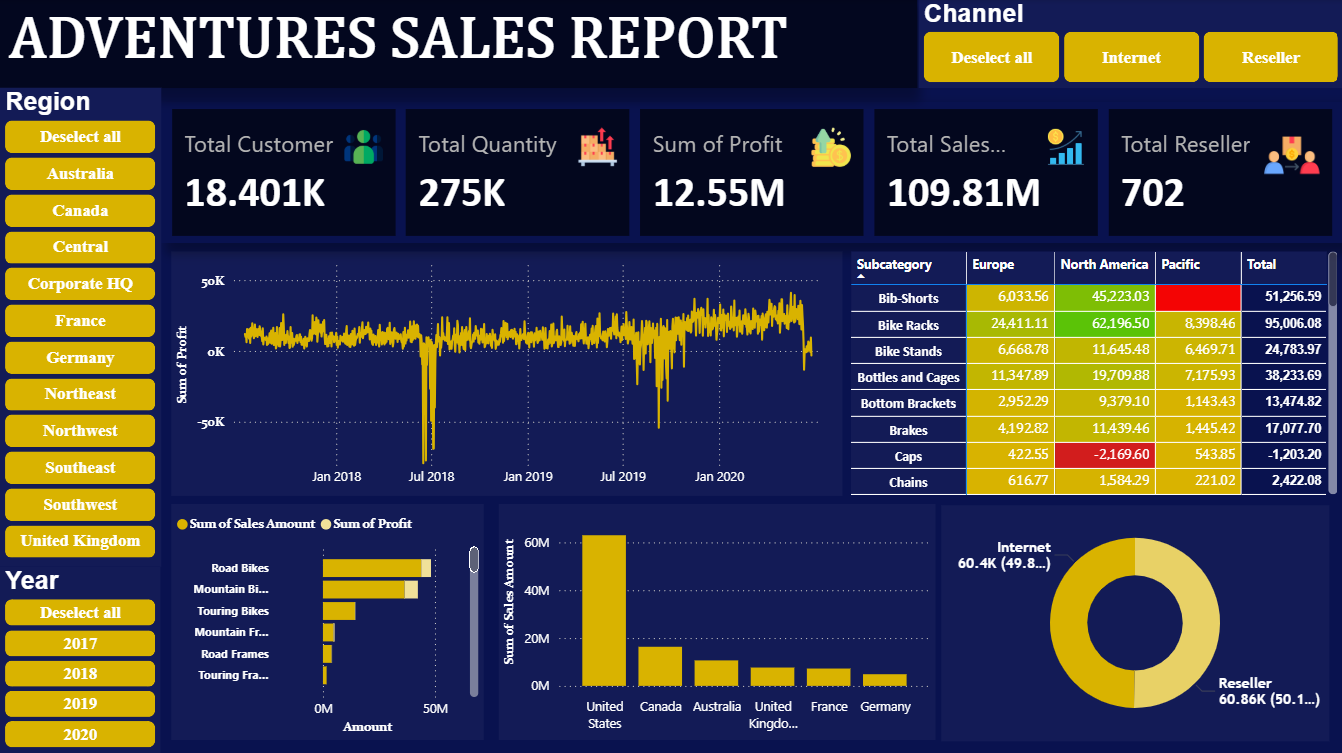

The dashboard page shown, as its layout file describes it:
{"tool":"powerbi","page":{"name":"Page 1","canvas":[1280,720],"ordinal":0},"visuals":[{"type":"textbox","box":[0,0,874,84.7],"z":1000},{"type":"cardVisual","title":"Total Customer","fields":{"Data":["Count(CustomerData.Customer)","Sum(SalesData.Order Quantity)","Sum(SalesData.Profit)","Sum(SalesData.Sales Amount)","CountNonNull(ResellerData.ResellerKey)"]},"box":[153,98,1127,135],"z":2000},{"type":"lineChart","fields":{"Category":["DueDate.Full Date.Variation.Date Hierarchy.Year","DueDate.Full Date.Variation.Date Hierarchy.Quarter","DueDate.Full Date.Variation.Date Hierarchy.Month","DueDate.Full Date.Variation.Date Hierarchy.Day"],"Y":["Sum(SalesData.Profit)"]},"box":[162.8,240.6,638.9,232.8],"z":3000},{"type":"barChart","title":"Sum of Sales Profit by Subcategory","fields":{"Category":["ProductData.Subcategory"],"Y":["Sum(SalesData.Sales Amount)","Sum(SalesData.Profit)"]},"box":[162.8,481.4,297.7,224.4],"z":4000},{"type":"columnChart","title":"Sum of Sales by Country","fields":{"Category":["SalesTerritoryData.Country"],"Y":["Sum(SalesData.Sales Amount)"]},"box":[474.4,481.4,416.3,224.4],"z":5000},{"type":"advancedSlicerVisual","fields":{"Values":["SalesTerritoryData.Region"]},"box":[0,84.9,153.5,455.8],"z":6000},{"type":"advancedSlicerVisual","fields":{"Values":["SalesOrderData.Channel"]},"box":[874.4,0,405.8,84.9],"z":7000},{"type":"advancedSlicerVisual","fields":{"Values":["DueDate.Full Date.Variation.Date Hierarchy.Year"]},"box":[0,541,153,179],"z":8000},{"type":"donutChart","title":"Product by Channel","fields":{"Category":["SalesOrderData.Channel"],"Y":["CountNonNull(SalesData.ProductKey)"]},"box":[896.7,481.7,369.4,224.4],"z":9000},{"type":"pivotTable","fields":{"Values":["Sum(SalesData.Profit)"],"Columns":["SalesTerritoryData.Group"],"Rows":["ProductData.Subcategory"]},"box":[806.1,236.1,473.3,241.1],"z":10000}]}

Visuals, with their boxes in screenshot pixels (x1, y1, x2, y2), scaled from the page's 1280x720 canvas onto the 1342x753 screenshot:
textbox: 0,0,916,89
"Total Customer" cardVisual: 160,102,1341,244
lineChart - DueDate.Full Date.Variation.Date Hierarchy.Year x DueDate.Full Date.Variation.Date Hierarchy.Quarter: 171,252,841,495
"Sum of Sales Profit by Subcategory" barChart: 171,503,483,738
"Sum of Sales by Country" columnChart: 497,503,934,738
advancedSlicerVisual - SalesTerritoryData.Region: 0,89,161,565
advancedSlicerVisual - SalesOrderData.Channel: 917,0,1341,89
advancedSlicerVisual - DueDate.Full Date.Variation.Date Hierarchy.Year: 0,566,160,752
"Product by Channel" donutChart: 940,504,1327,738
pivotTable - Sum(SalesData.Profit) x SalesTerritoryData.Group: 845,247,1341,499
